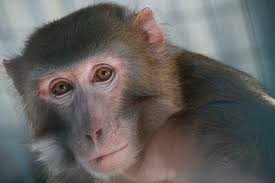monkey: (8, 10, 275, 173)
